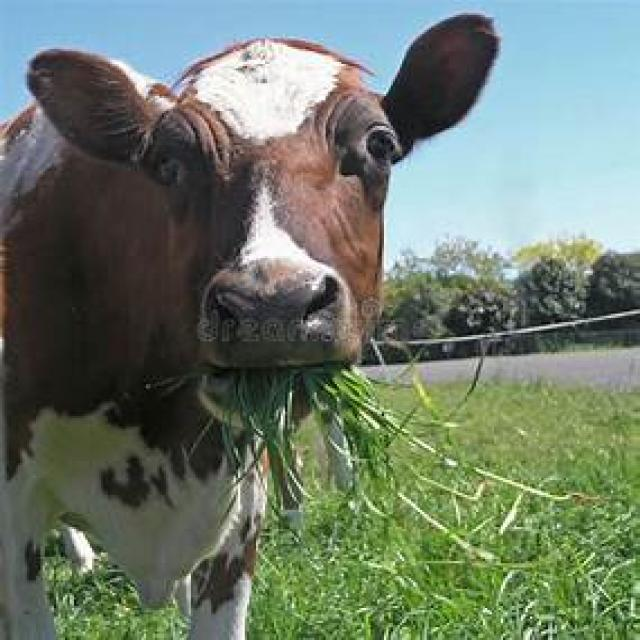cow: (3, 15, 499, 640)
